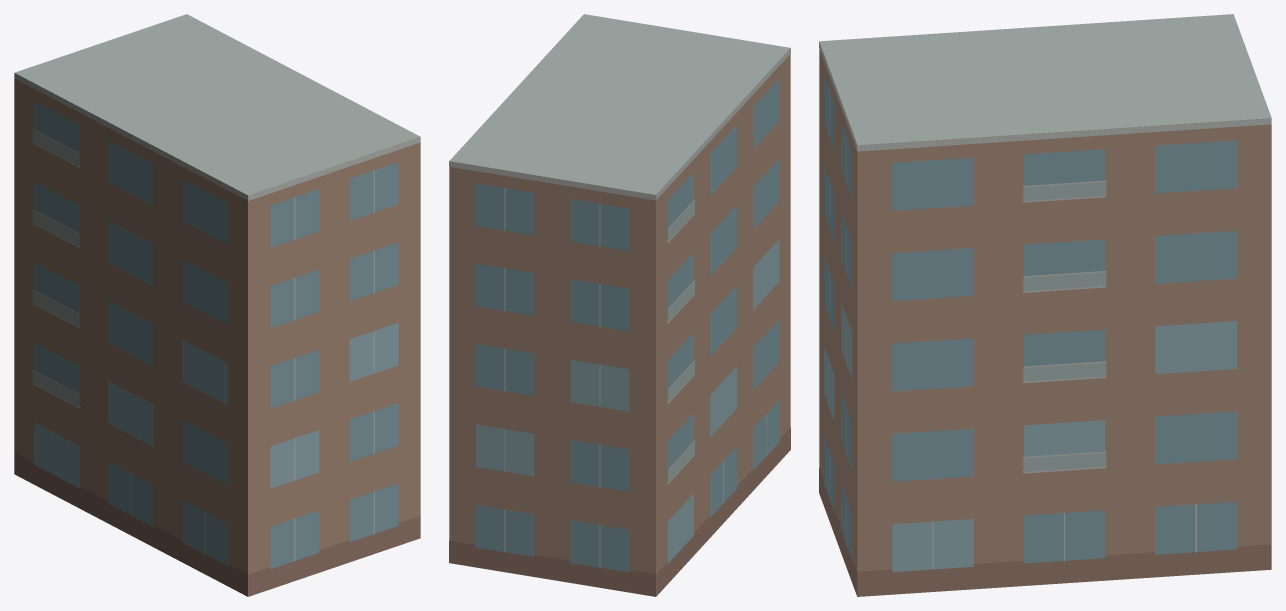
File: survey-upis-32702885.glb
The picture shows the model from 3 angles, left to right: view 1: azimuth 30°, elevation 25°; view 2: azimuth 150°, elevation 25°; view 3: azimuth 270°, elevation 25°; orthographic projection. The views are drawn at different scales.
Visible parts, largest first — view 1: survey-upis-32702885.tmp; view 2: survey-upis-32702885.tmp; view 3: survey-upis-32702885.tmp.
Part boxes in pixels (x1=…): survey-upis-32702885.tmp: x1=14, y1=14, x2=420, y2=596; survey-upis-32702885.tmp: x1=449, y1=14, x2=790, y2=596; survey-upis-32702885.tmp: x1=819, y1=14, x2=1271, y2=596.
Size of the model in its own units: 10.9 by 17.46 by 15.87.
